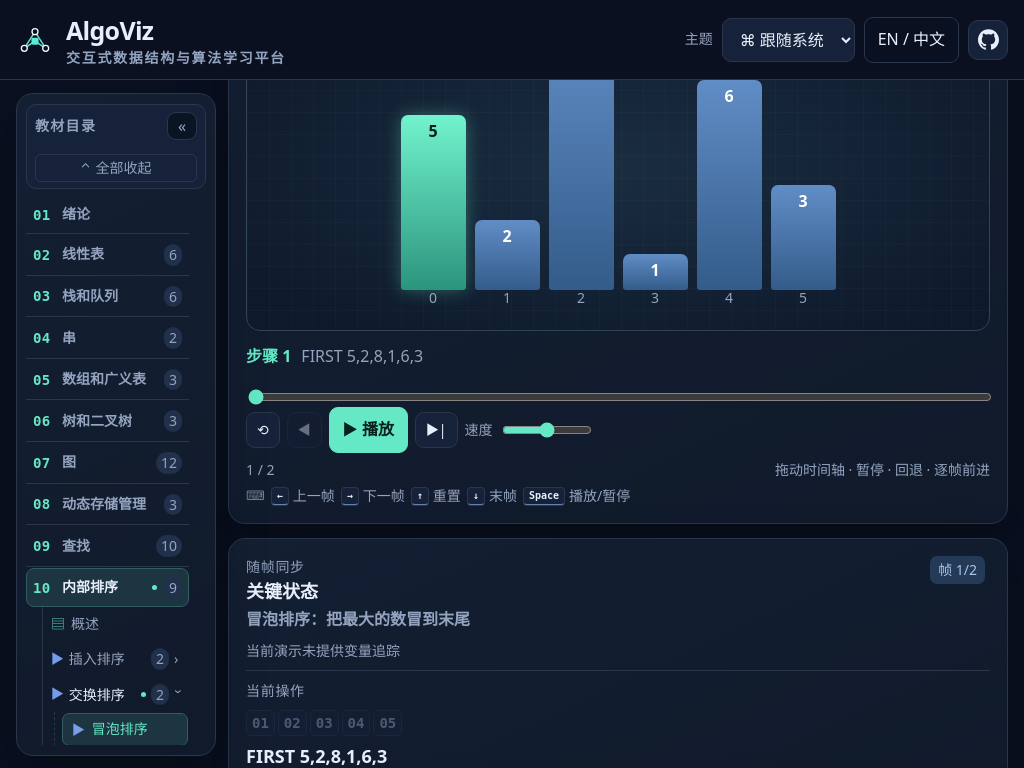
Test: INPUT-01 custom inputs really execute › passes edited bubble values to the real executor and restarts playback
(page scrolled)
Check: the text with test id "progress" reads "1 / 2", box [246,460,274,479]
Click the button with test id "next-btn" at (436, 430), box [415,412,458,448]
(page scrolled)
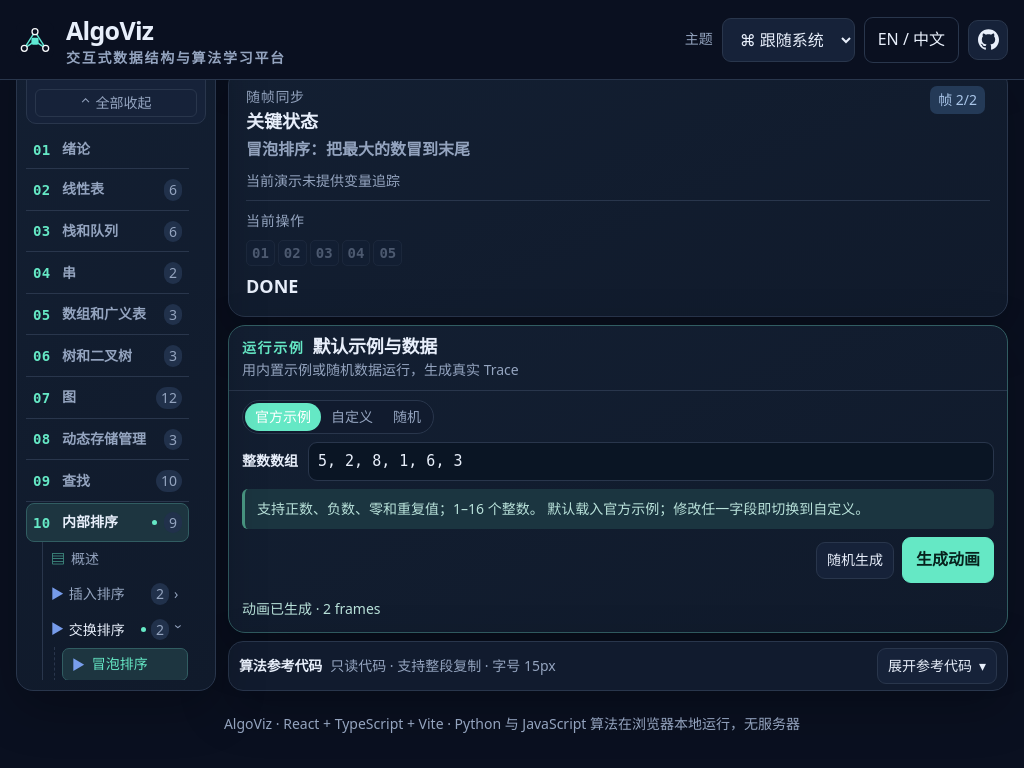
Replace the text in the text box with test id "run-input" with "8, 3, 5, 1, 7" at (651, 462), box [308,442,994,481]
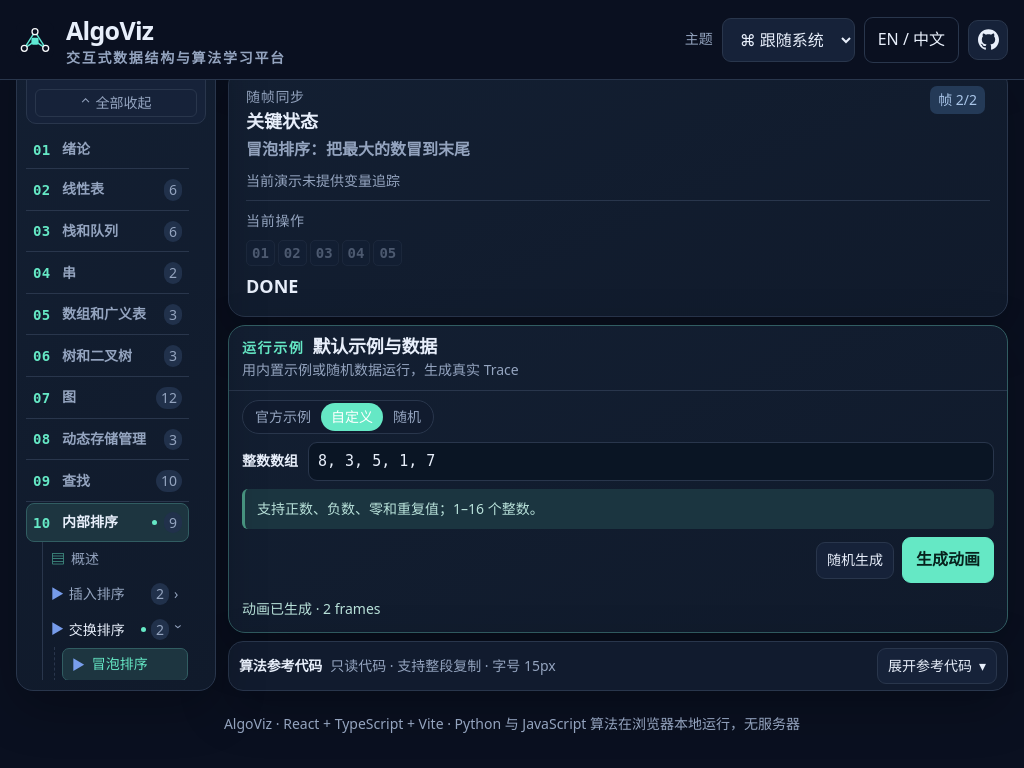
Check: the button with test id "guided-mode-custom" is pressed, box [321,403,383,432]
Click the button with test id "run-btn" at (948, 560), box [902,537,994,583]
(page scrolled)
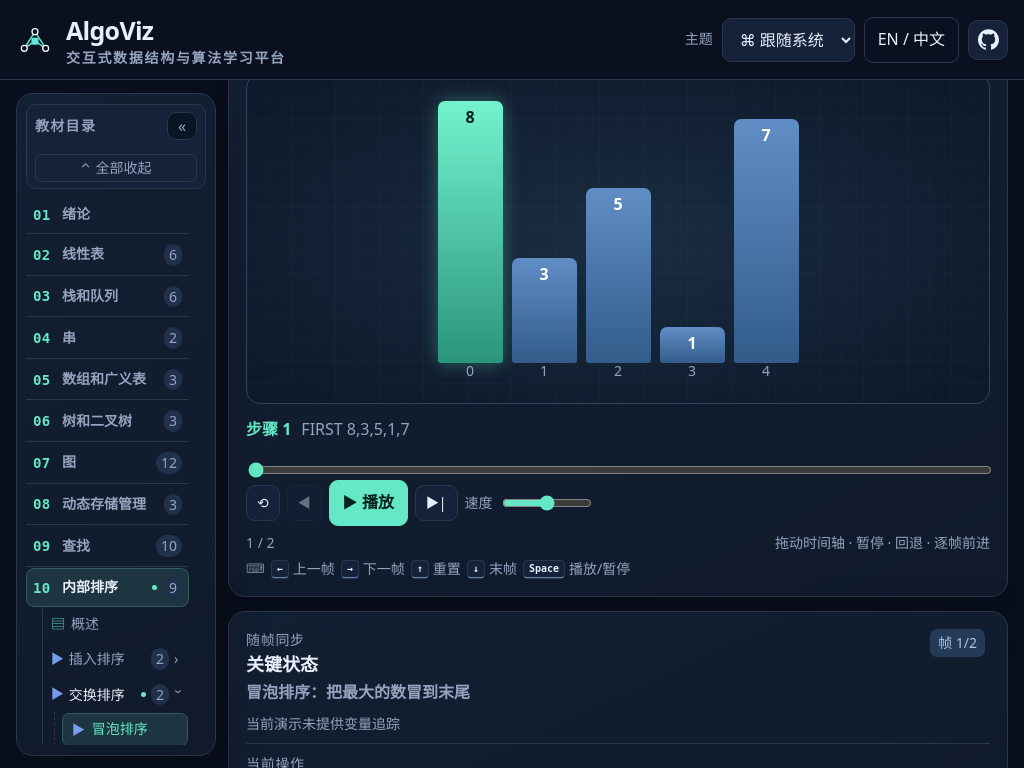
Check: the text with test id "progress" reads "1 / 2", box [246,533,274,552]
Check: the text with test id "step-desc" reads "FIRST 8,3,5,1,7", box [301,418,410,440]
